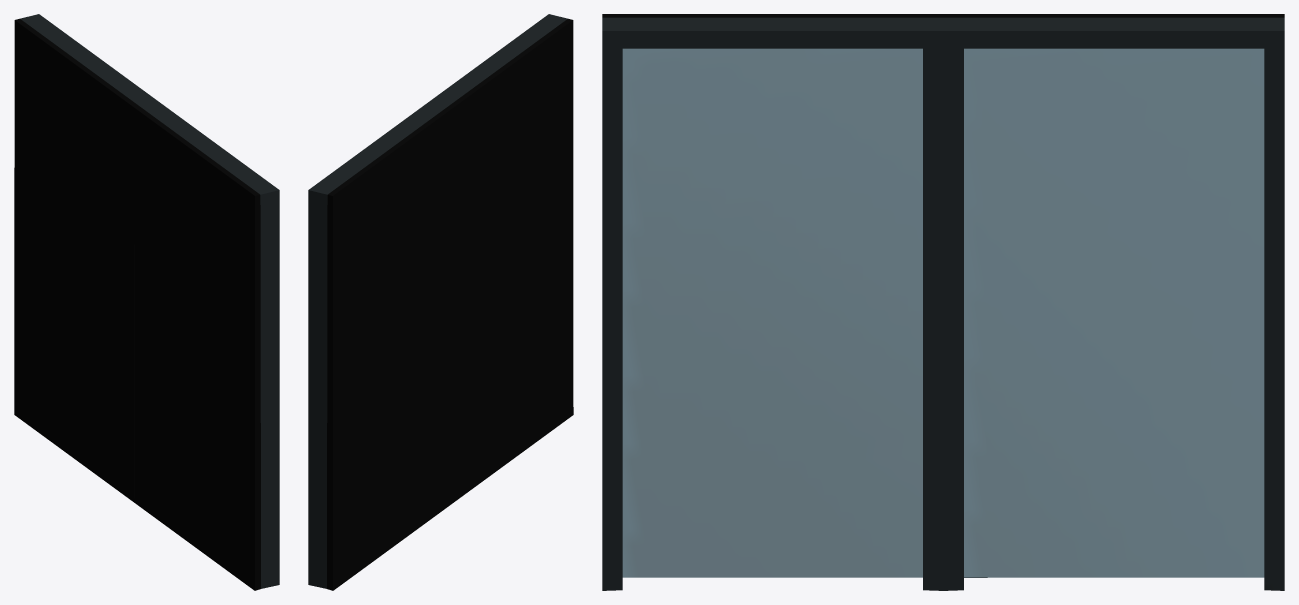
File: Building Door.fbx
3 views of the same model, side by side, from view 1: azimuth 30°, elevation 25°; view 2: azimuth 150°, elevation 25°; view 3: azimuth 270°, elevation 25° (orthographic). The views are drawn at different scales.
Visible parts, largest first — view 1: DoorL, DoorR, DoorFrame; view 2: DoorR, DoorL, DoorFrame; view 3: DoorR, DoorL, DoorFrame.
Part boxes in pixels (bbox=[...]): DoorL: bbox=[134, 107, 260, 590]; DoorR: bbox=[14, 18, 139, 502]; DoorFrame: bbox=[20, 14, 279, 588]; DoorR: bbox=[327, 106, 453, 590]; DoorL: bbox=[448, 18, 573, 502]; DoorFrame: bbox=[308, 14, 567, 588]; DoorR: bbox=[943, 14, 1284, 577]; DoorL: bbox=[602, 14, 943, 577]; DoorFrame: bbox=[602, 17, 1284, 590].
Size of the model in its own units: 43.01 by 2.55 by 38.95.
